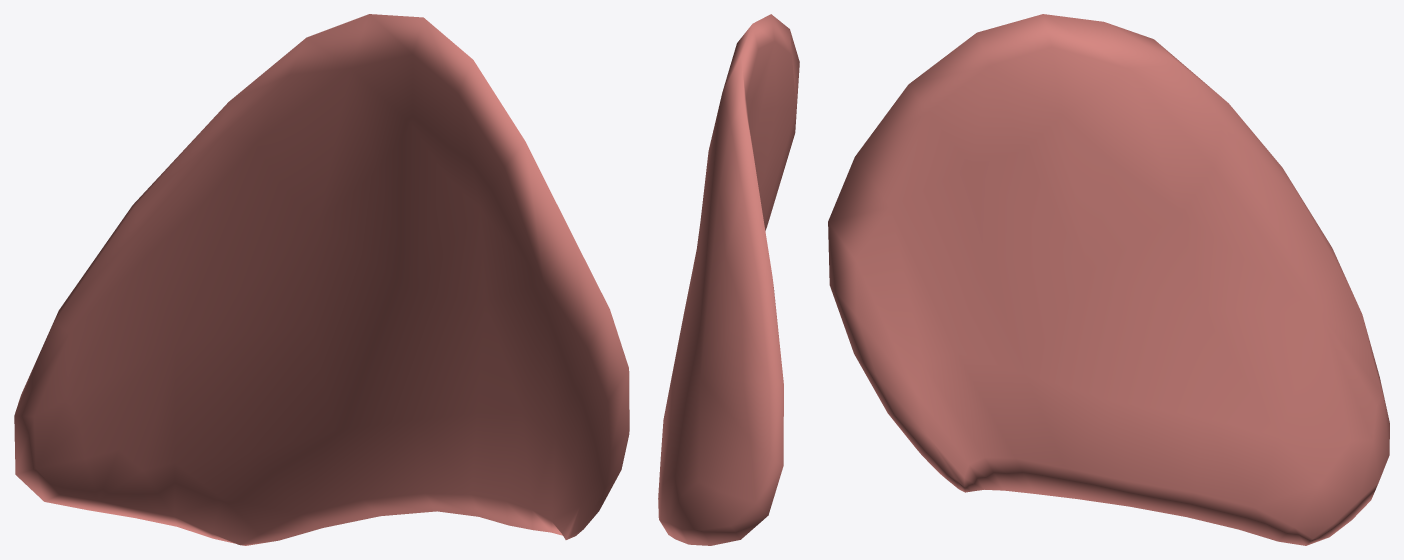
The picture shows the model from 3 angles, left to right: view 1: azimuth 30°, elevation 25°; view 2: azimuth 150°, elevation 25°; view 3: azimuth 270°, elevation 25°; orthographic projection. The views are drawn at different scales.
Visible parts, largest first — view 1: ZA_11471406ce659914; view 2: ZA_11471406ce659914; view 3: ZA_11471406ce659914.
Boxes of the visible parts, bbox=[...] form: ZA_11471406ce659914: bbox=[14, 14, 629, 545]; ZA_11471406ce659914: bbox=[658, 14, 799, 545]; ZA_11471406ce659914: bbox=[828, 14, 1389, 545].
Size of the model in its own units: 0.00388 by 0.00686 by 0.00645.
